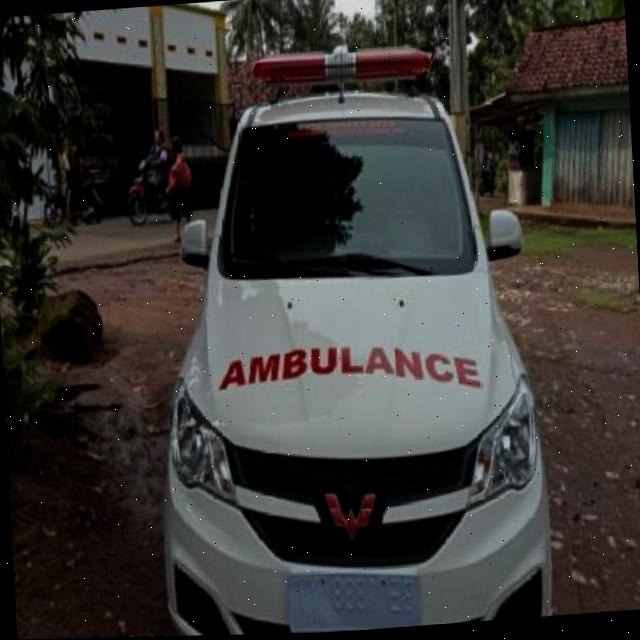emergency: (134, 31, 556, 638)
